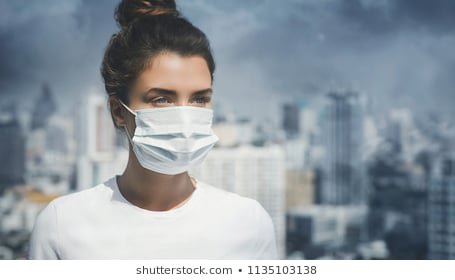mask: (83, 7, 235, 187)
